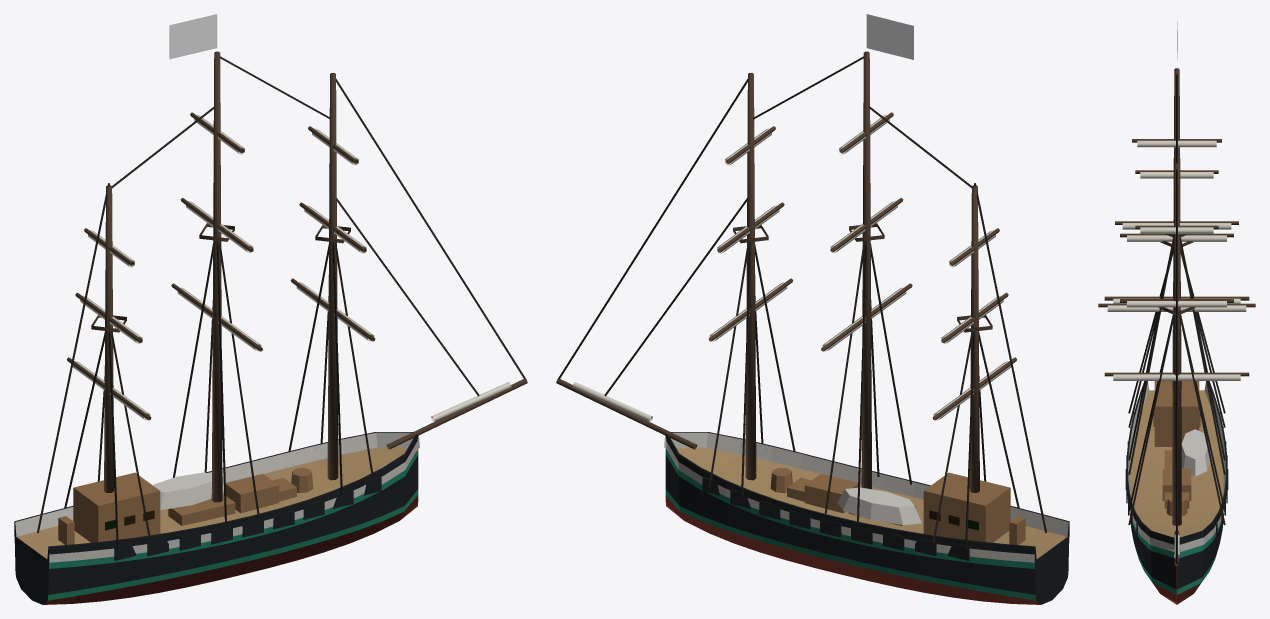
The model's file is hull_ship_flagship_docked.glb.
The picture shows the model from 3 angles, left to right: view 1: azimuth 30°, elevation 25°; view 2: azimuth 150°, elevation 25°; view 3: azimuth 270°, elevation 25°; orthographic projection. The views are drawn at different scales.
Visible parts, largest first — view 1: hull_ship_flagship_docked_hull, hull_ship_flagship_docked_mast, hull_ship_flagship_docked_rigging, hull_ship_flagship_docked_deck, hull_ship_flagship_docked_sail_furled, hull_ship_flagship_docked_gunports, hull_ship_flagship_docked_deckgear, hull_ship_flagship_docked_flag, hull_ship_flagship_docked_shipsboat; view 2: hull_ship_flagship_docked_hull, hull_ship_flagship_docked_mast, hull_ship_flagship_docked_rigging, hull_ship_flagship_docked_deck, hull_ship_flagship_docked_sail_furled, hull_ship_flagship_docked_gunports, hull_ship_flagship_docked_shipsboat, hull_ship_flagship_docked_flag, hull_ship_flagship_docked_deckgear; view 3: hull_ship_flagship_docked_hull, hull_ship_flagship_docked_mast, hull_ship_flagship_docked_rigging, hull_ship_flagship_docked_sail_furled, hull_ship_flagship_docked_deck, hull_ship_flagship_docked_shipsboat, hull_ship_flagship_docked_deckgear, hull_ship_flagship_docked_gunports.
Part boxes in pixels (x1,y1,x2,y2): hull_ship_flagship_docked_hull: [14, 432, 419, 604]; hull_ship_flagship_docked_mast: [67, 51, 527, 502]; hull_ship_flagship_docked_rigging: [37, 56, 526, 549]; hull_ship_flagship_docked_deck: [73, 472, 279, 542]; hull_ship_flagship_docked_sail_furled: [73, 115, 511, 421]; hull_ship_flagship_docked_gunports: [114, 449, 381, 560]; hull_ship_flagship_docked_deckgear: [58, 467, 313, 544]; hull_ship_flagship_docked_flag: [169, 14, 217, 59]; hull_ship_flagship_docked_shipsboat: [153, 472, 223, 510]; hull_ship_flagship_docked_hull: [664, 432, 1069, 604]; hull_ship_flagship_docked_mast: [556, 51, 1016, 492]; hull_ship_flagship_docked_rigging: [557, 56, 1046, 549]; hull_ship_flagship_docked_deck: [804, 472, 1010, 542]; hull_ship_flagship_docked_sail_furled: [572, 115, 1010, 421]; hull_ship_flagship_docked_gunports: [702, 449, 969, 560]; hull_ship_flagship_docked_shipsboat: [837, 487, 921, 525]; hull_ship_flagship_docked_flag: [866, 14, 913, 59]; hull_ship_flagship_docked_deckgear: [770, 467, 1025, 544]; hull_ship_flagship_docked_hull: [1126, 381, 1227, 604]; hull_ship_flagship_docked_mast: [1098, 68, 1255, 566]; hull_ship_flagship_docked_rigging: [1128, 74, 1225, 563]; hull_ship_flagship_docked_sail_furled: [1107, 140, 1246, 558]; hull_ship_flagship_docked_deck: [1154, 381, 1199, 500]; hull_ship_flagship_docked_shipsboat: [1181, 429, 1211, 476]; hull_ship_flagship_docked_deckgear: [1164, 450, 1189, 515]; hull_ship_flagship_docked_gunports: [1125, 412, 1228, 538].
Size of the model in its own units: 33.34 by 35.91 by 10.28.
